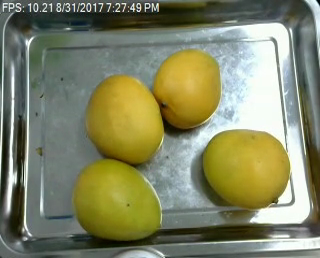Mango: (72, 158, 163, 239), (204, 130, 291, 207), (84, 76, 161, 161), (152, 50, 222, 127)
